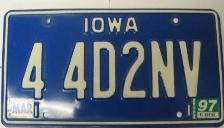2: (119, 39, 150, 100)
4: (19, 39, 49, 101), (61, 40, 90, 101)
D: (92, 39, 118, 101)
N: (150, 39, 177, 100)
V: (178, 39, 204, 99)
